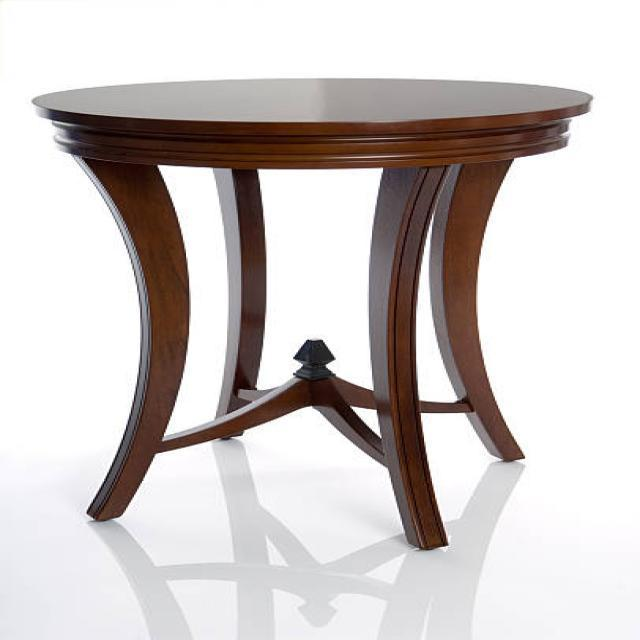table: (30, 76, 593, 550)
